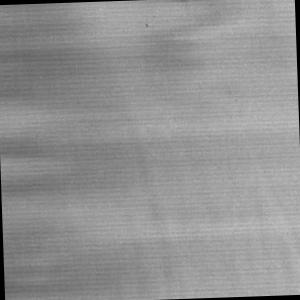Wrinkle: (1, 3, 91, 300)
